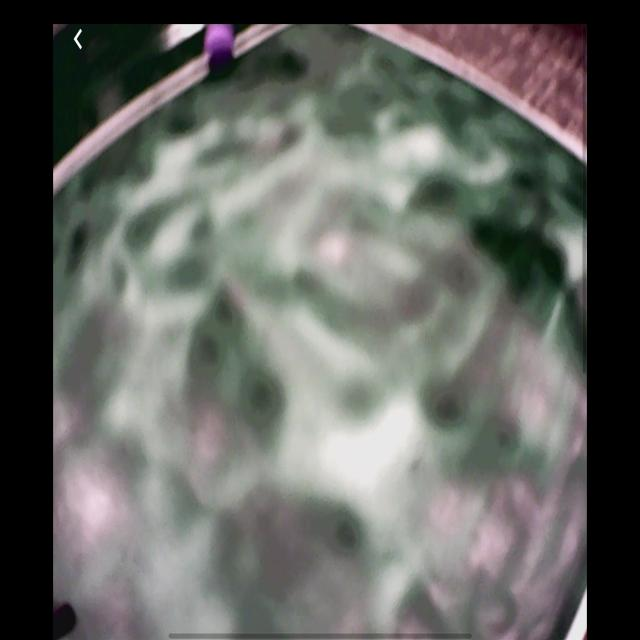ball: (202, 22, 235, 75)
